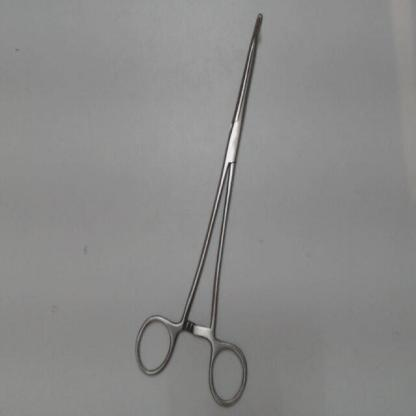Lahey Forceps: (127, 7, 270, 412)
